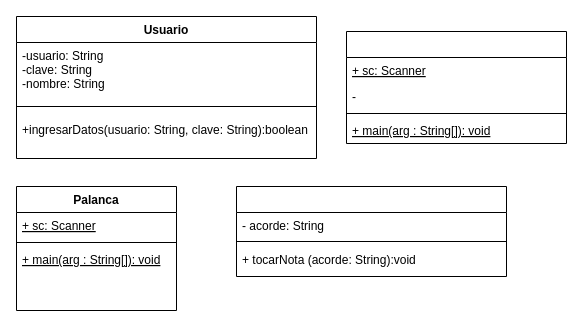
The diagram is 583 pixels wide and 327 high, and some of its shapes have lost their labels. The shapes that lost their labels are listed below. From the top down, each one's box as (x1, y1, x2, y2) in pixels, then its label:
(346, 30, 566, 144): App
(236, 186, 506, 276): Guitarra
